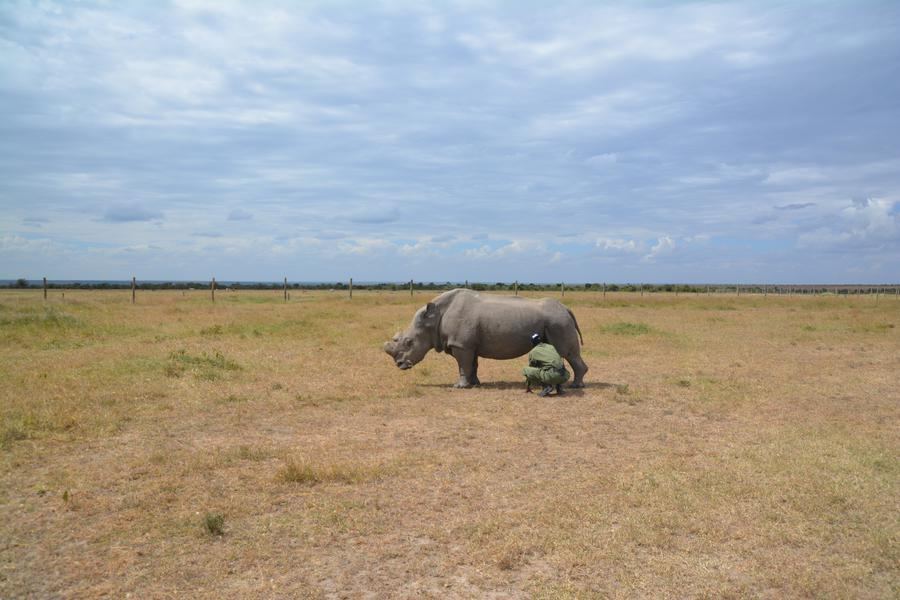rhino: (393, 284, 587, 377)
